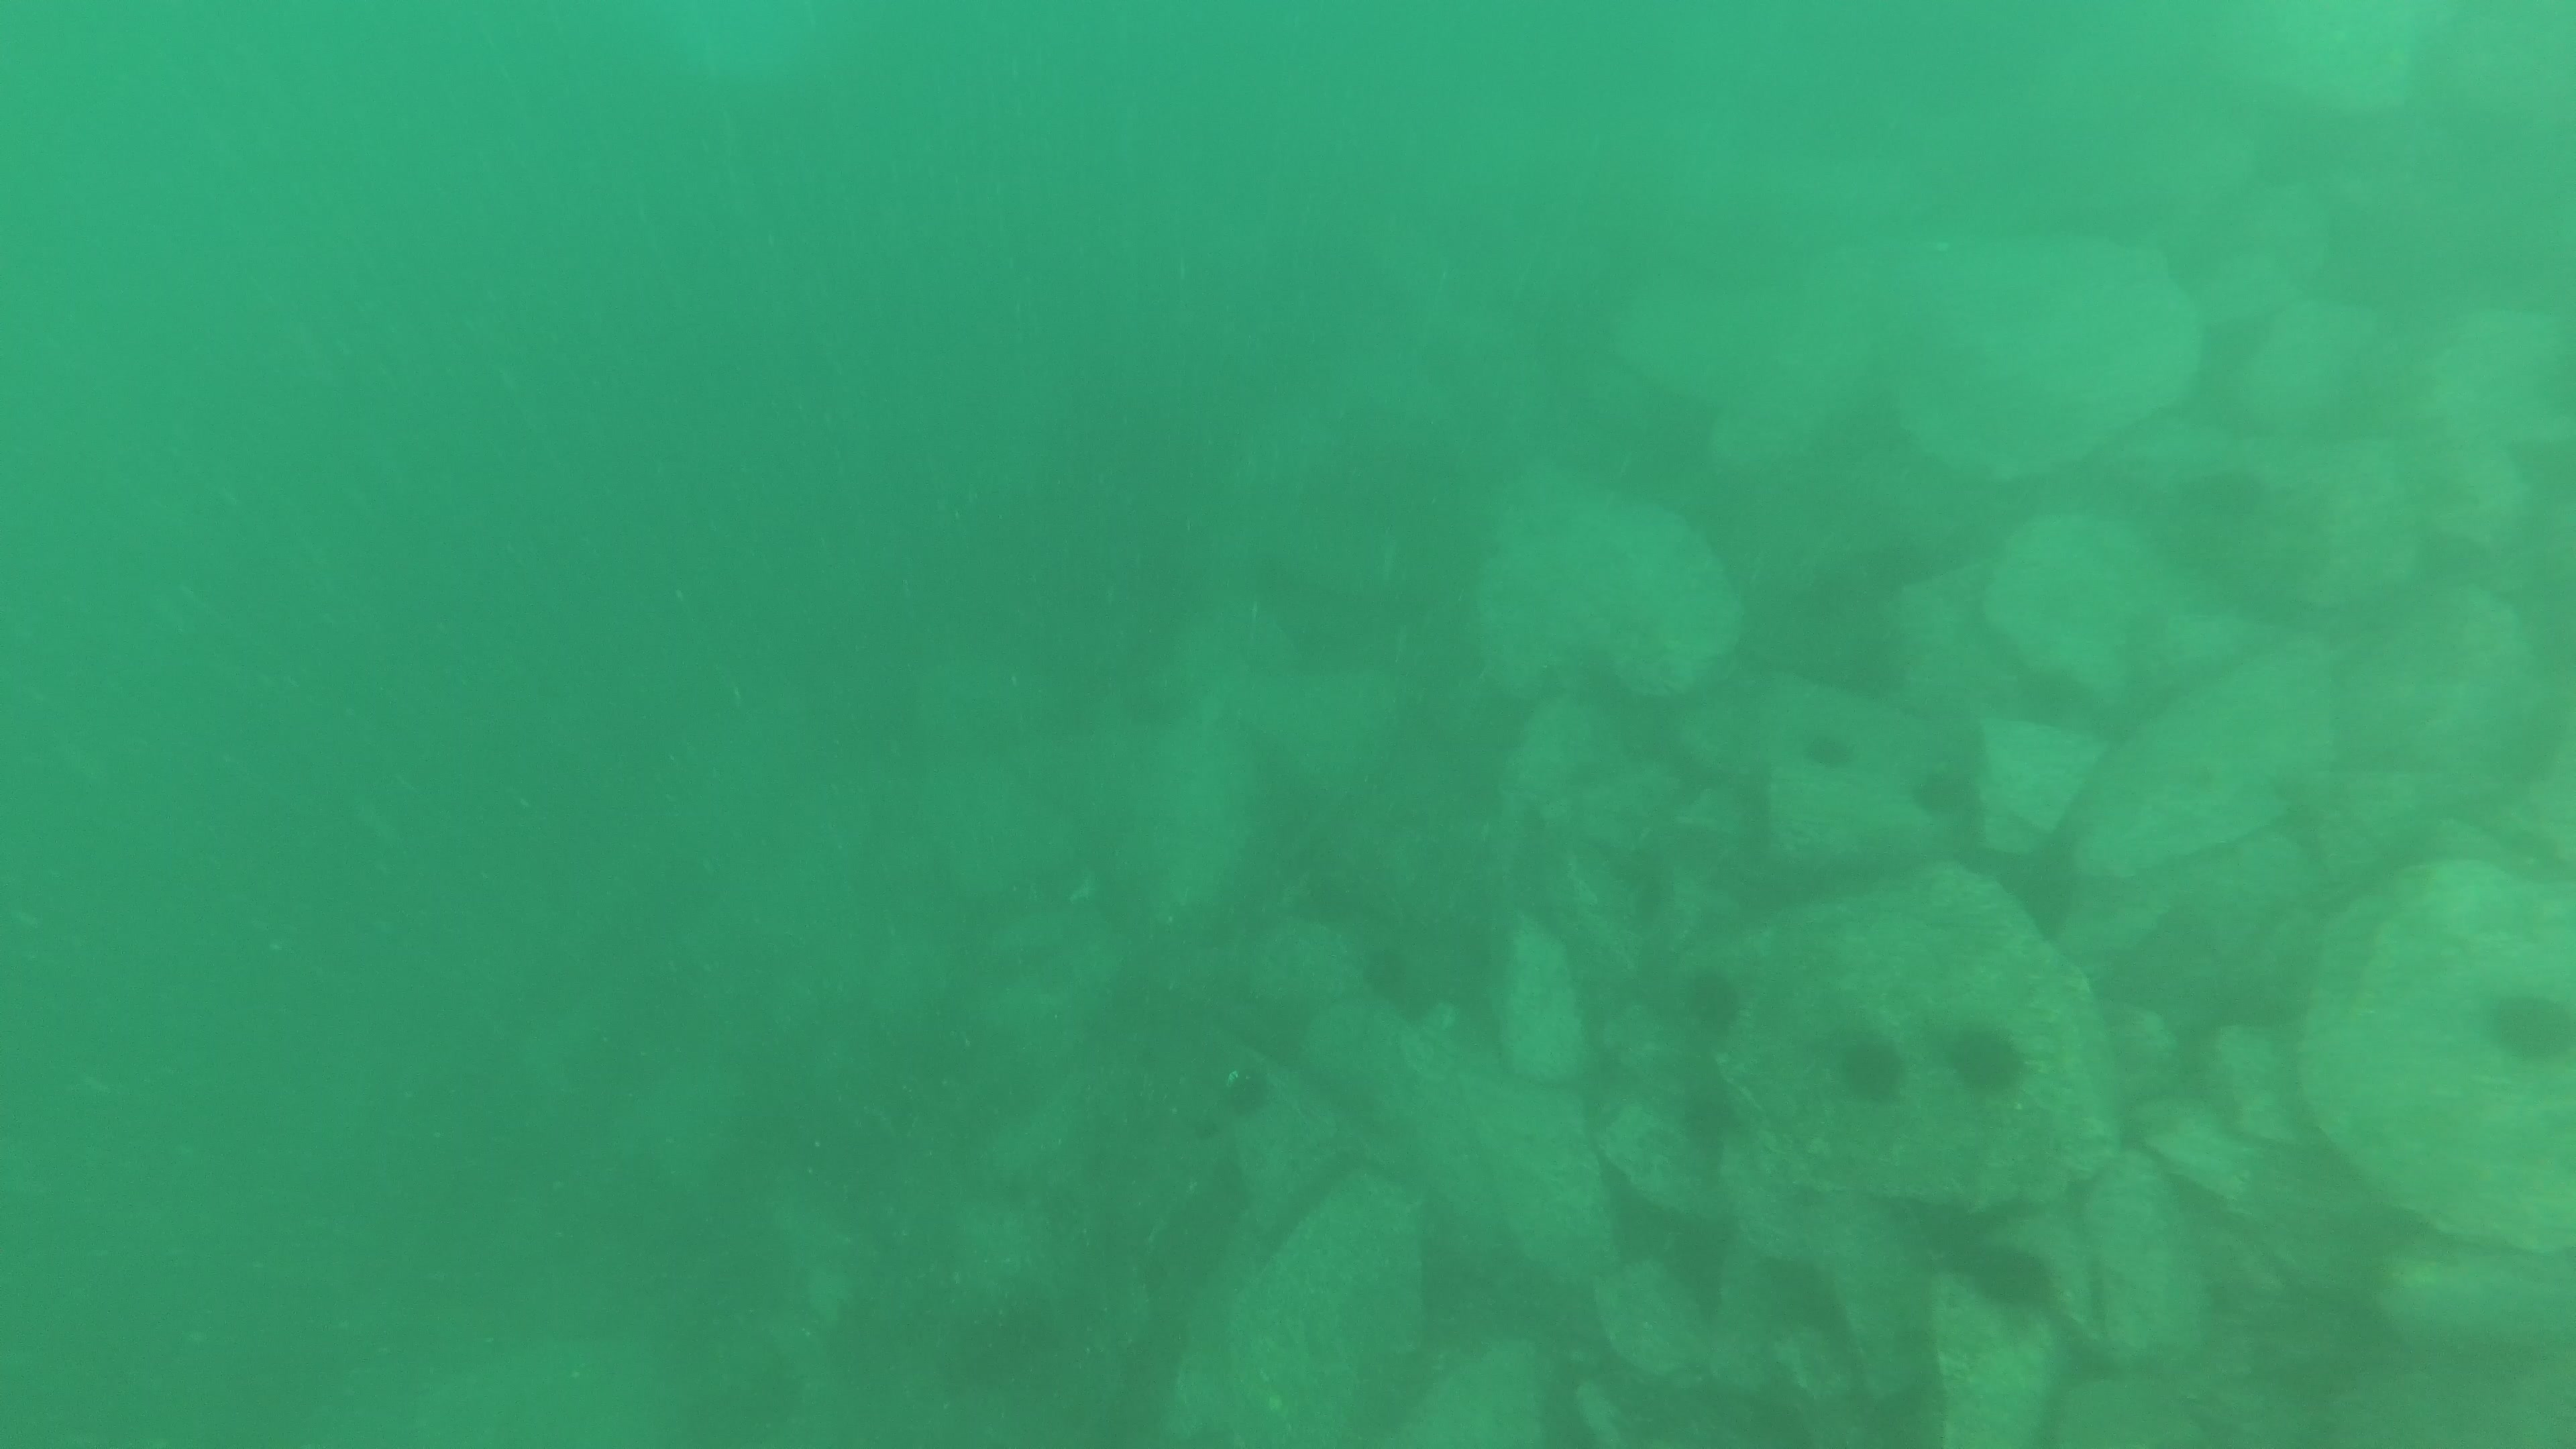echinus: (2477, 970, 2576, 1074), (1966, 1238, 2074, 1318), (1936, 1024, 2031, 1113), (1838, 1023, 1913, 1109), (1672, 970, 1752, 1039), (1907, 755, 1974, 824), (1212, 1058, 1279, 1123), (1789, 722, 1851, 780)
